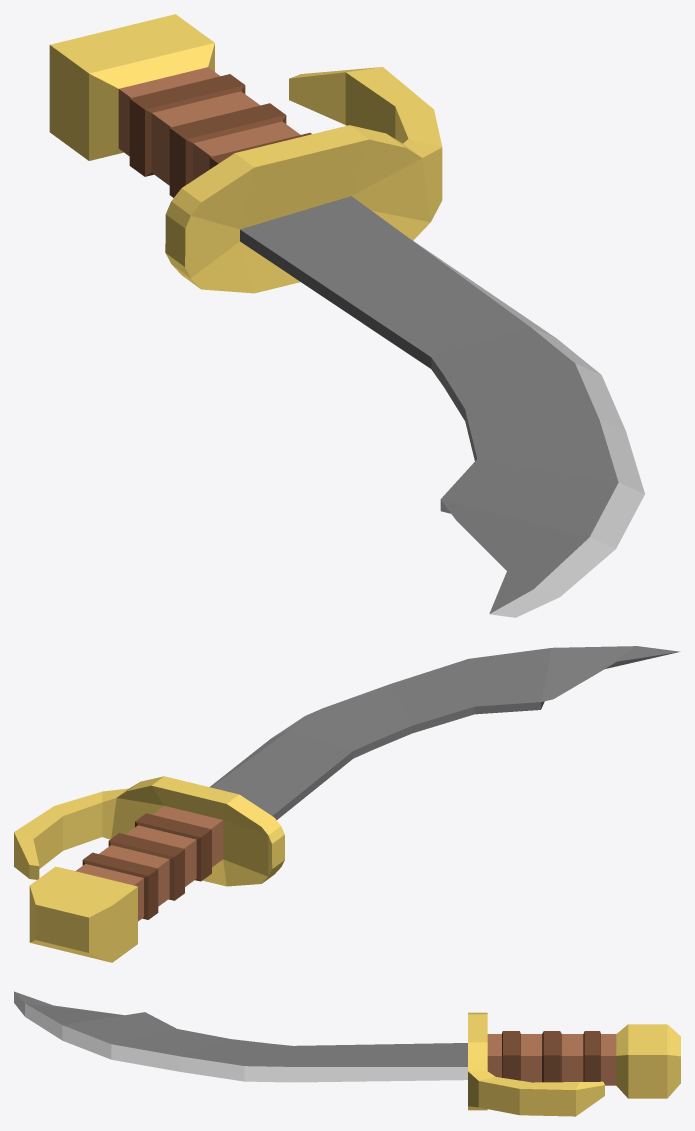
File: low_poly_pirate_sword.glb
The picture shows the model from 3 angles, top to bottom: view 1: azimuth 30°, elevation 25°; view 2: azimuth 150°, elevation 25°; view 3: azimuth 270°, elevation 25°; orthographic projection. The views are drawn at different scales.
Parts seen in each view (by area): view 1: Box002; view 2: Box002; view 3: Box002.
Boxes of the visible parts, x1,y1,x2,y2 form: Box002: (49, 14, 644, 617); Box002: (14, 646, 680, 962); Box002: (14, 991, 680, 1116).
Bounding box in the file's own units: 31.19 × 8.24 × 79.07.
1 material, 1 textured.
